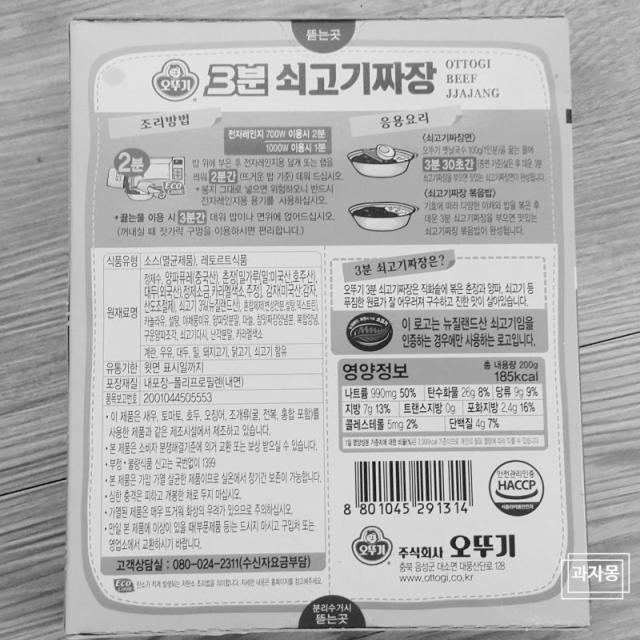Nutrition Label: (332, 357, 553, 455)
